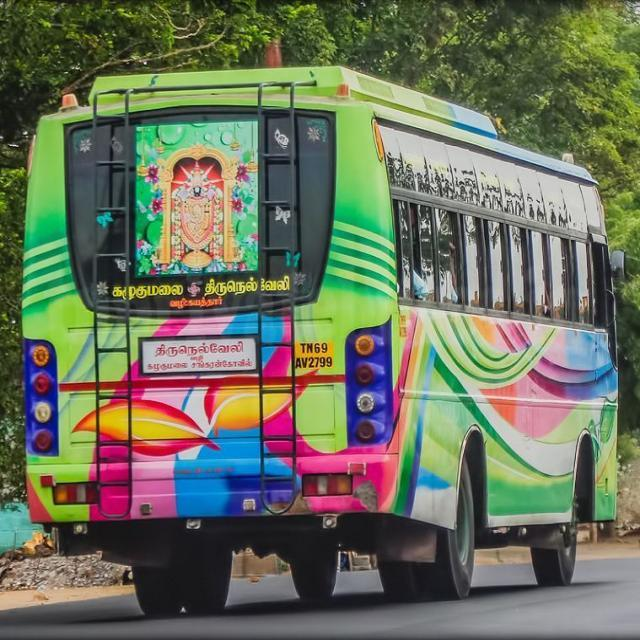Bus: (14, 62, 630, 616)
